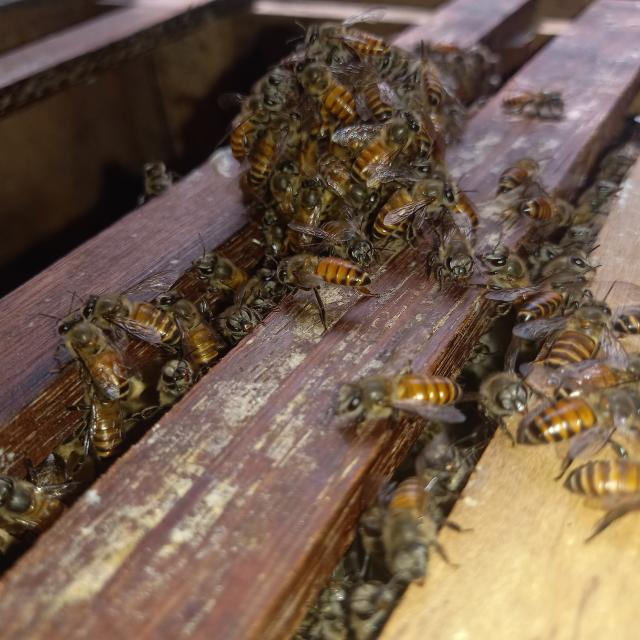honeybee: (334, 346, 430, 436), (374, 481, 479, 552), (38, 302, 116, 392), (280, 235, 374, 302), (0, 456, 71, 543), (90, 270, 167, 342), (520, 400, 610, 458), (569, 439, 640, 511), (169, 297, 235, 370), (75, 404, 135, 482), (409, 192, 507, 238), (460, 357, 530, 419), (528, 323, 614, 370), (233, 128, 302, 182), (509, 77, 575, 130), (434, 240, 507, 284), (511, 282, 603, 314), (314, 30, 400, 62), (152, 355, 199, 411), (199, 246, 248, 297), (569, 176, 618, 224), (302, 146, 355, 188), (225, 66, 293, 98), (406, 92, 449, 139), (288, 190, 348, 222), (351, 139, 404, 173), (522, 176, 562, 218), (552, 235, 601, 268), (321, 75, 359, 115), (486, 154, 544, 169)
